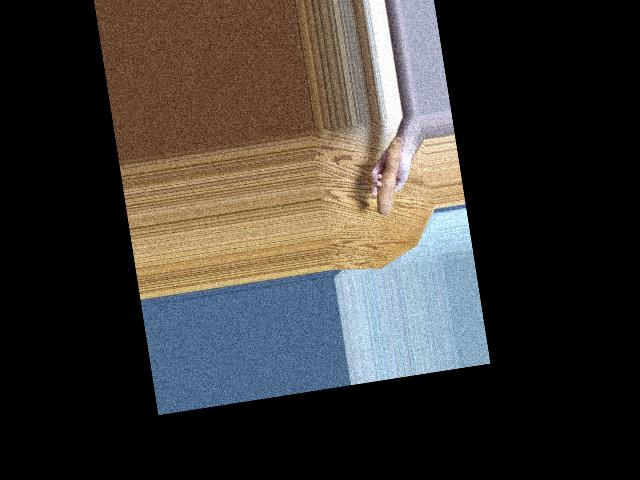sweet_potato: (365, 138, 412, 216)
